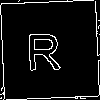R: (24, 24, 62, 71)
